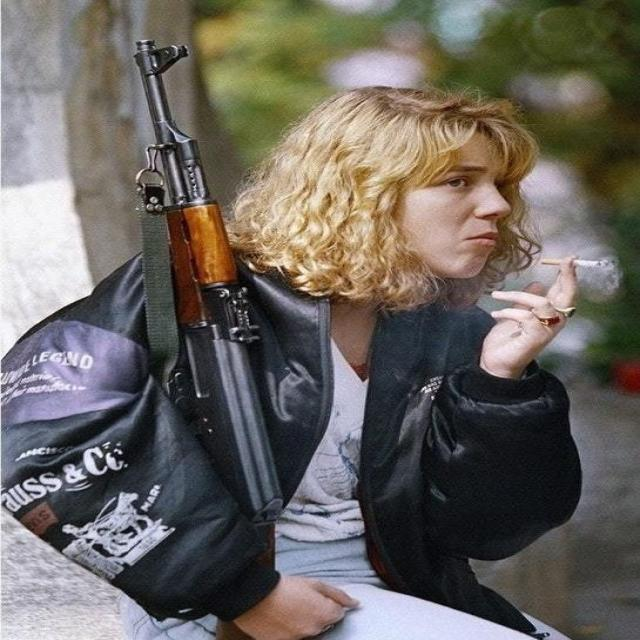ak: (111, 34, 312, 544)
